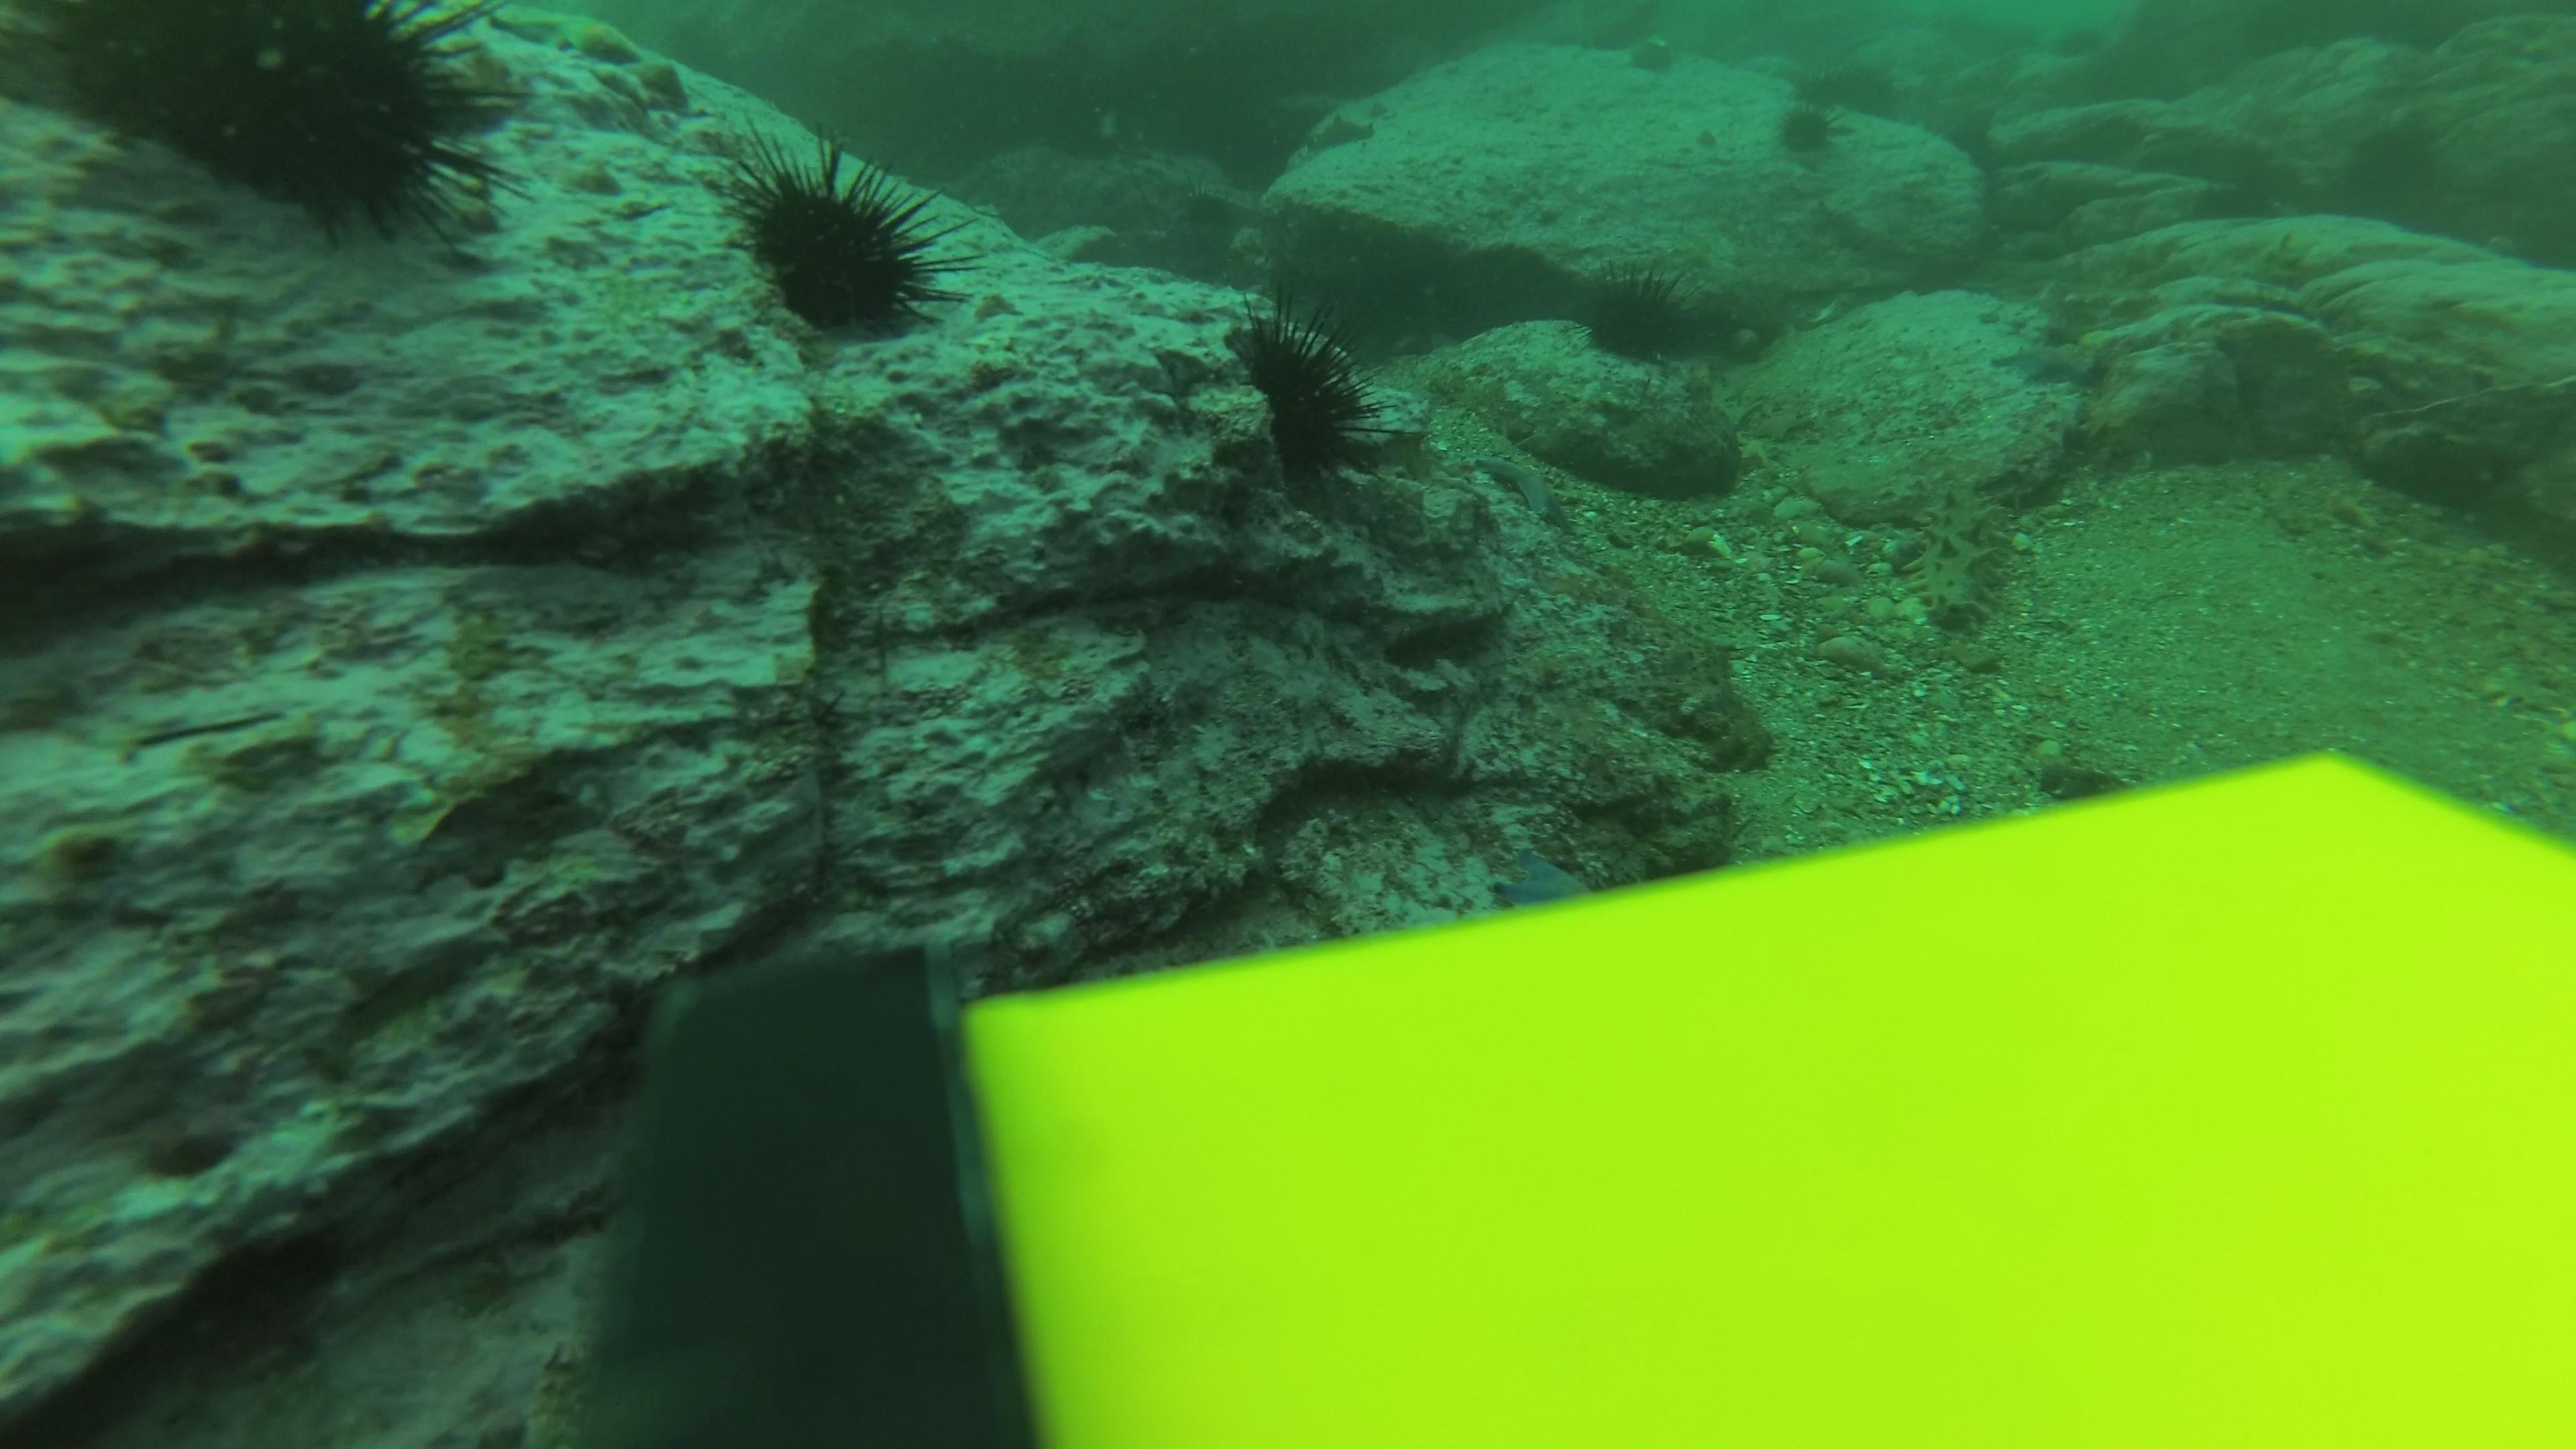echinus: (39, 2, 518, 249), (717, 134, 959, 349), (1217, 297, 1391, 502), (1573, 267, 1707, 370), (1767, 92, 1852, 166)
holothurian: (1904, 476, 2028, 644)
starfish: (483, 4, 679, 76), (1468, 441, 1583, 533), (1486, 837, 1598, 908), (1987, 334, 2104, 393), (1295, 97, 1387, 157)
